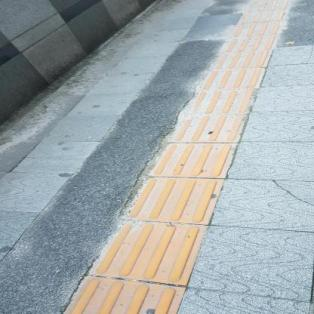Podoctatil: (48, 143, 240, 314), (162, 0, 296, 142)
